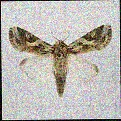Spodoptera litura: (8, 22, 113, 99)
